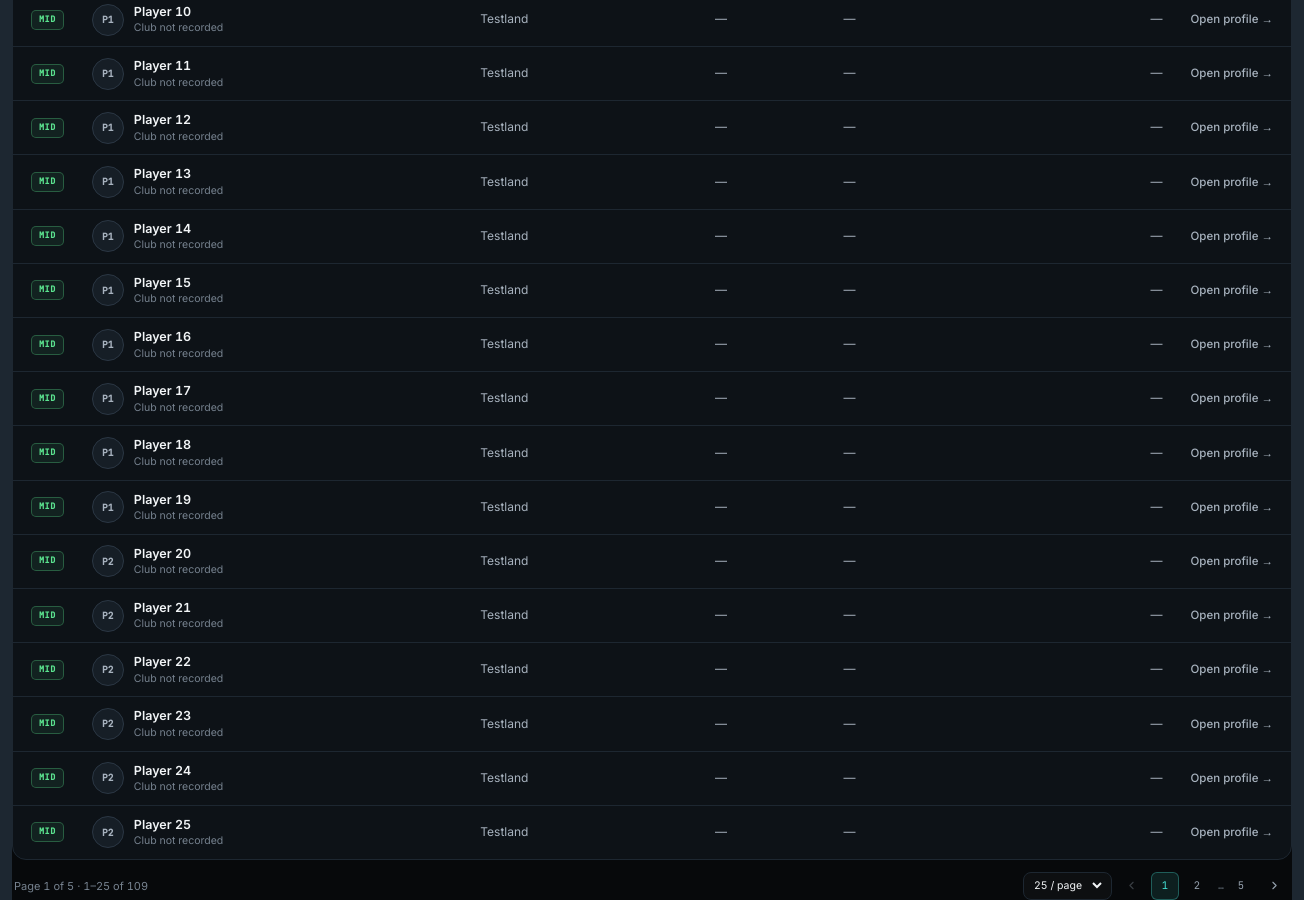
PlayerSearchPage pagination › shows the backend total and displays records beyond the first 50
(page scrolled)
Click the button with test id "players-page-next".
click(1274, 886)  # box [1259,872,1290,899]
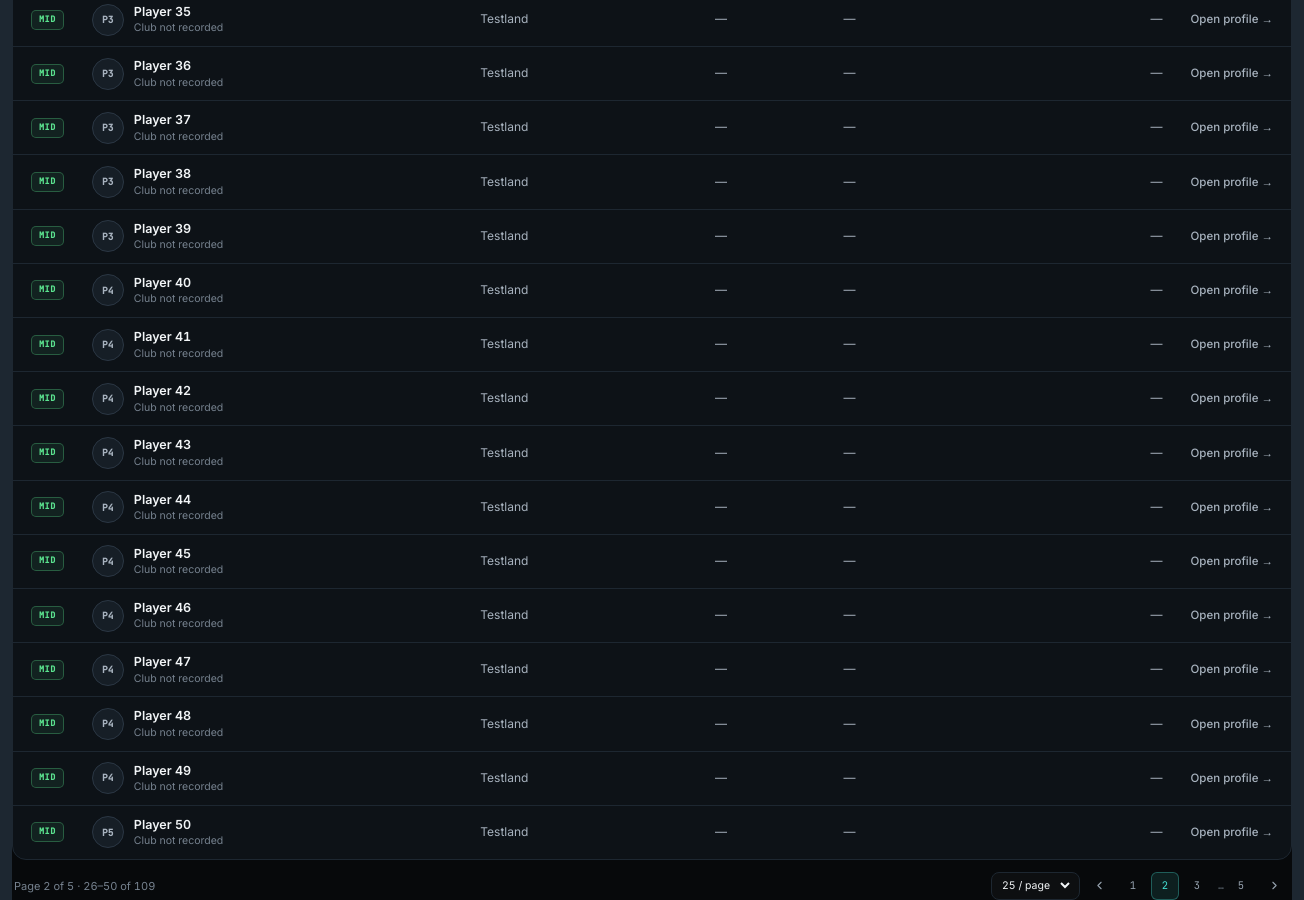
Click the button with test id "players-page-next".
click(1274, 886)  # box [1259,872,1290,899]
(page scrolled)
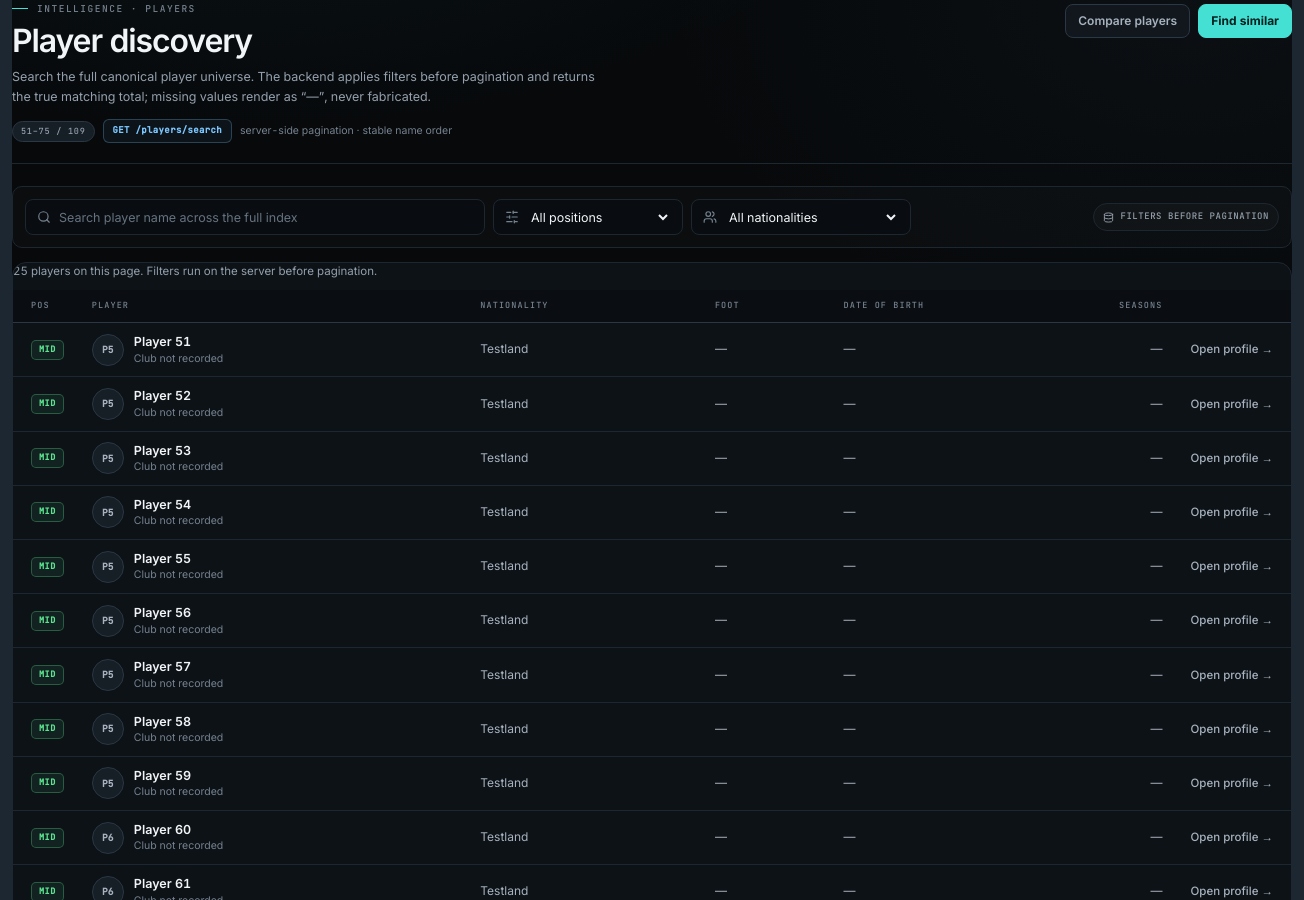
Result: the link with test id "player-link-" reads "Player 51" at [134,334,191,349]
